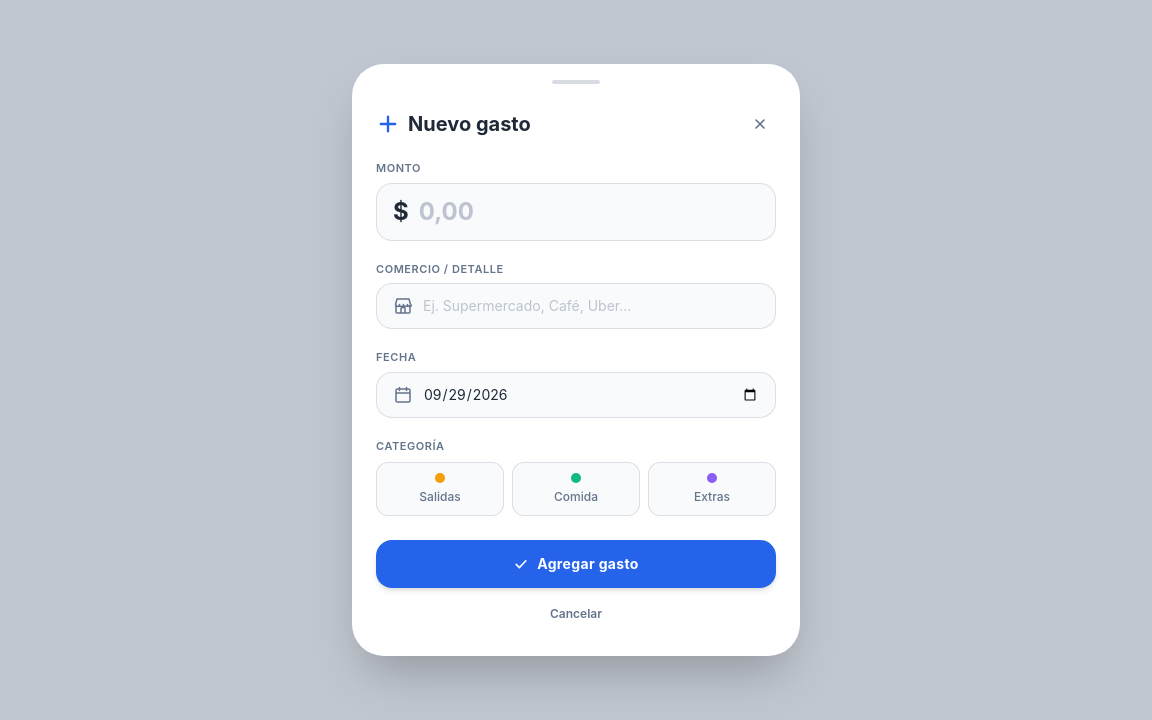
it: ModalNuevoGasto — errores inline (Req. 3.1, 3.2, 3.3) › con un error de categoría ausente, lo muestra inline y no cierra el modal
The width and height of the screenshot is (1152, 720).
Click the button with test id "guardar-nuevo-gasto" at [576, 564], box [376,540,776,588]
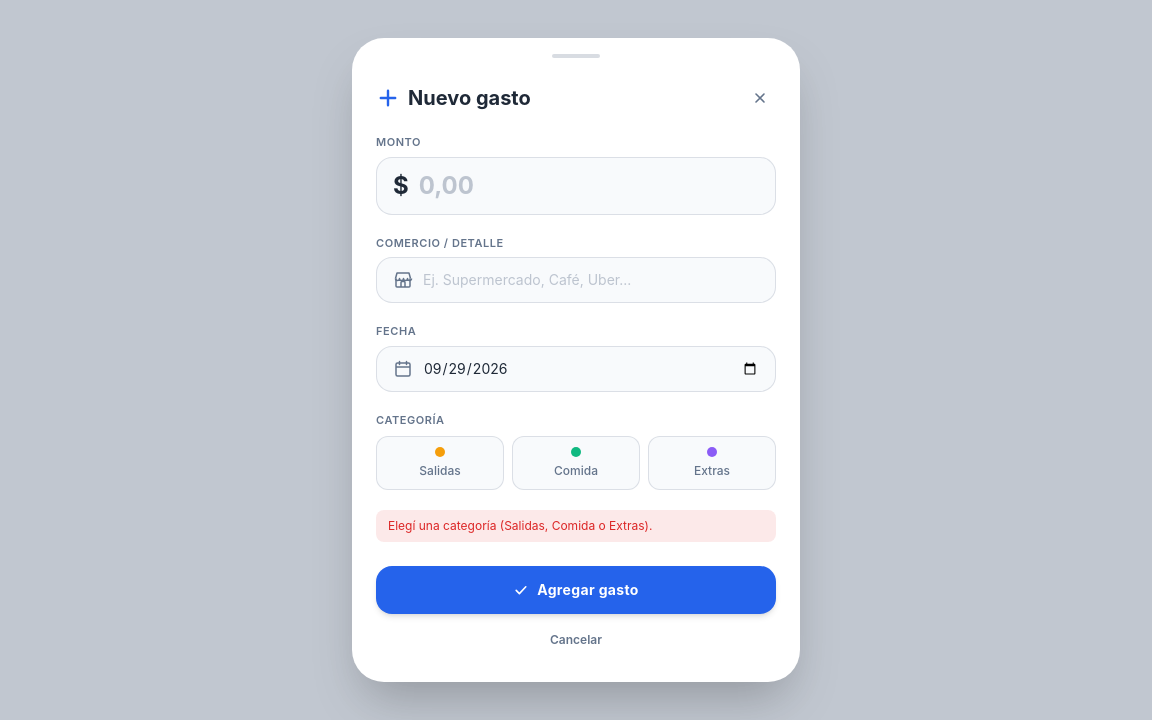
Expected: the form with test id "modal-nuevo-gasto" is shown, [352,38,800,682]
Expected: the text with test id "error-nuevo-gasto" reads "Elegí una categoría (Salidas, Comida o Extras).", [388,518,652,533]
